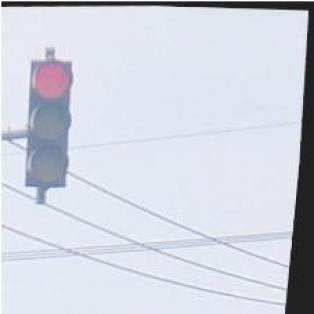Semaforo Rojo: (19, 57, 82, 191)
